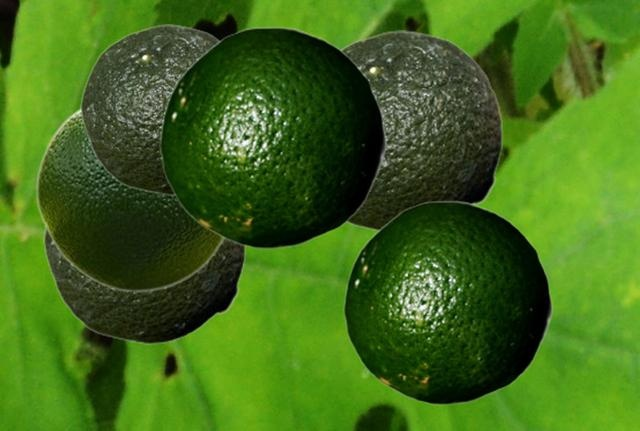calamansi: (159, 26, 386, 248), (343, 200, 552, 404), (35, 106, 224, 291), (339, 30, 502, 233), (80, 24, 220, 194), (43, 226, 245, 343)
